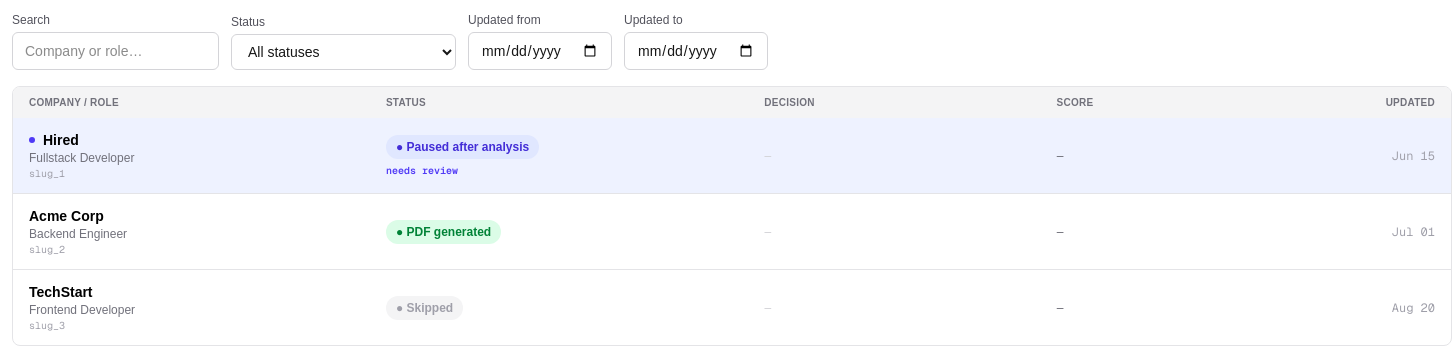
Test: WorkspaceListFilters › typing a query with no match shows filter-specific message, not WorkspaceList empty state
Type "zzznomatch" into the field labelled "Search" at (116, 51), box [12,32,219,70]
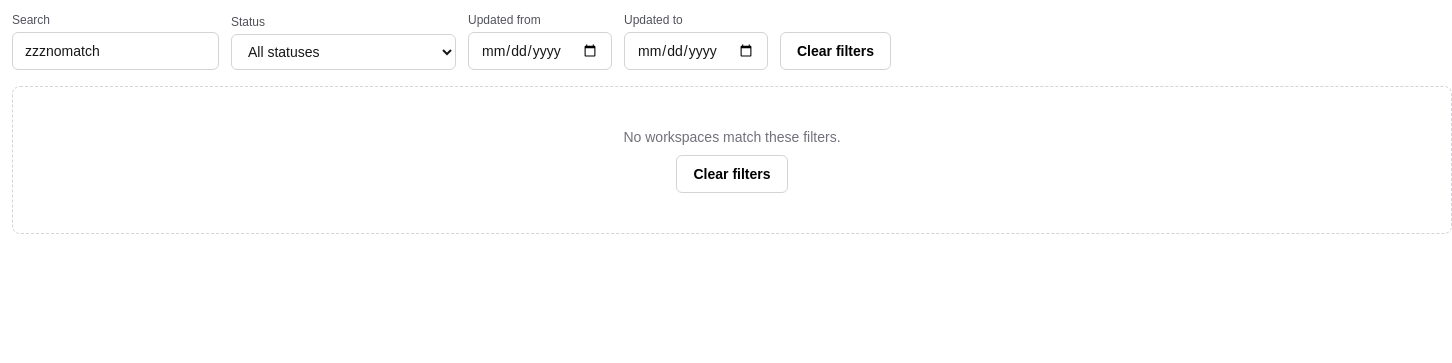
Check: the text "No workspaces match these filters." is shown, box [624,127,841,147]
